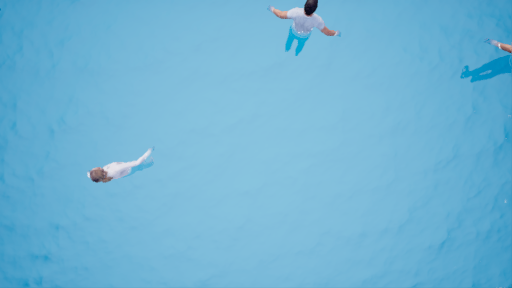person: (252, 1, 350, 63), (87, 138, 160, 189), (458, 24, 512, 82)
